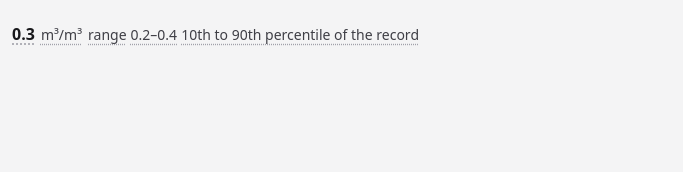
Test: SourcedNumber › says when no source is listed
The image size is (683, 172).
Click the button with aria-label "Source: model estimate".
click(216, 34)  # box [12,12,419,56]
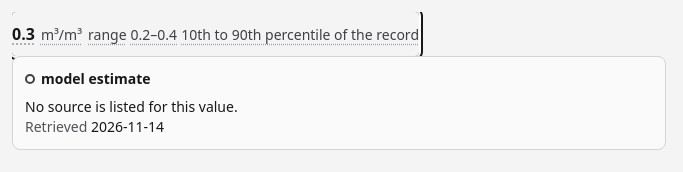
Expected: the text "No source is listed for this value." is shown, [25,97,238,116]
